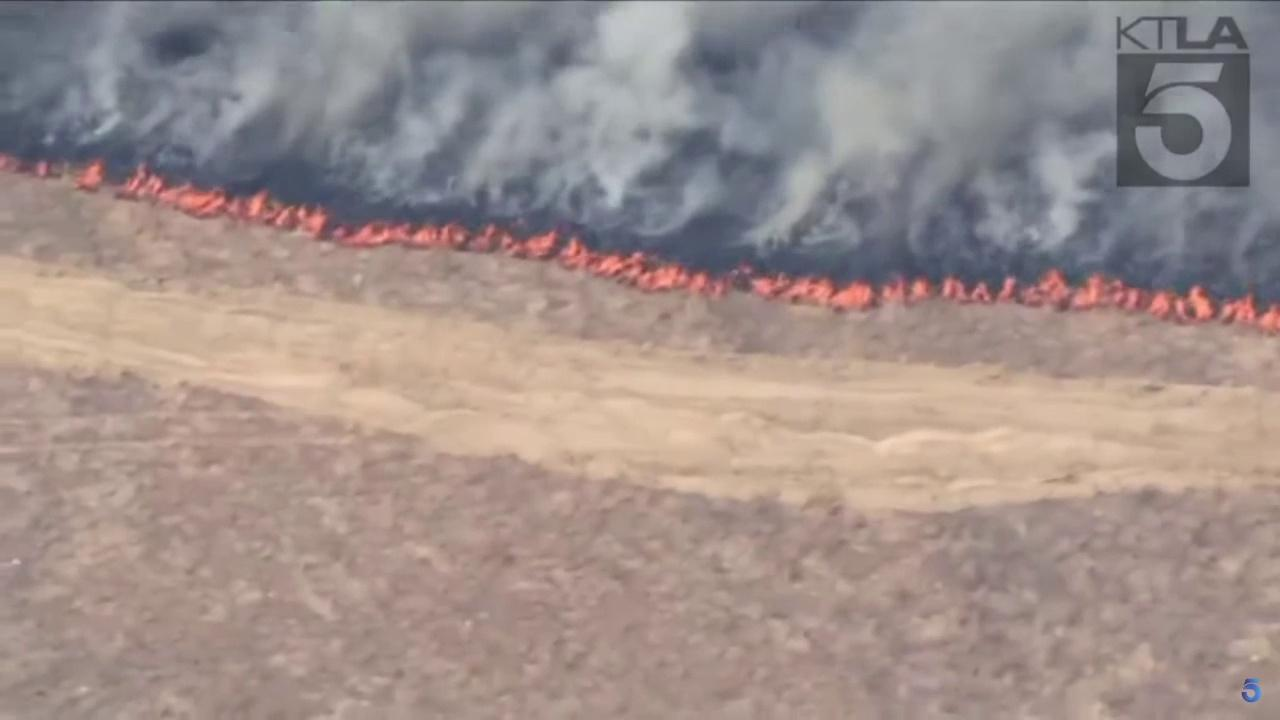fire: (118, 160, 1280, 336), (71, 157, 104, 192), (0, 148, 18, 175), (33, 158, 50, 179)
smoke: (0, 0, 1280, 296)
